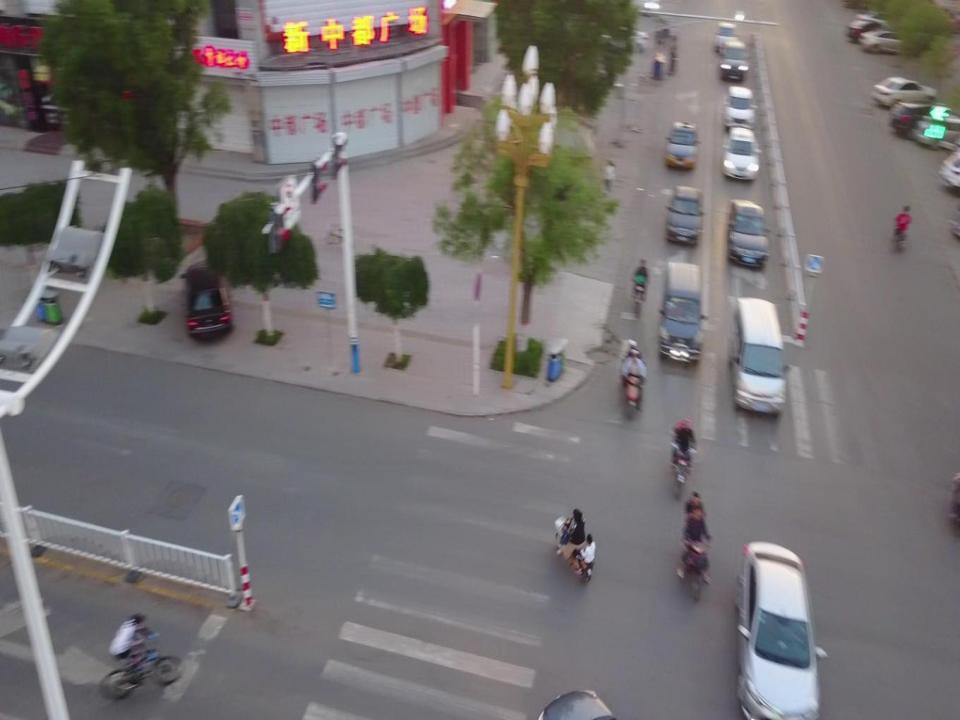car: (736, 539, 828, 720), (177, 257, 234, 338), (726, 198, 771, 269), (888, 100, 954, 137), (664, 185, 704, 246), (721, 127, 764, 182), (871, 75, 938, 109), (912, 111, 960, 147), (663, 121, 699, 168), (723, 86, 759, 132), (854, 11, 921, 35), (860, 28, 918, 55), (843, 19, 891, 41)
van: (730, 296, 791, 417), (658, 263, 709, 364), (720, 41, 748, 83), (712, 22, 736, 54)
